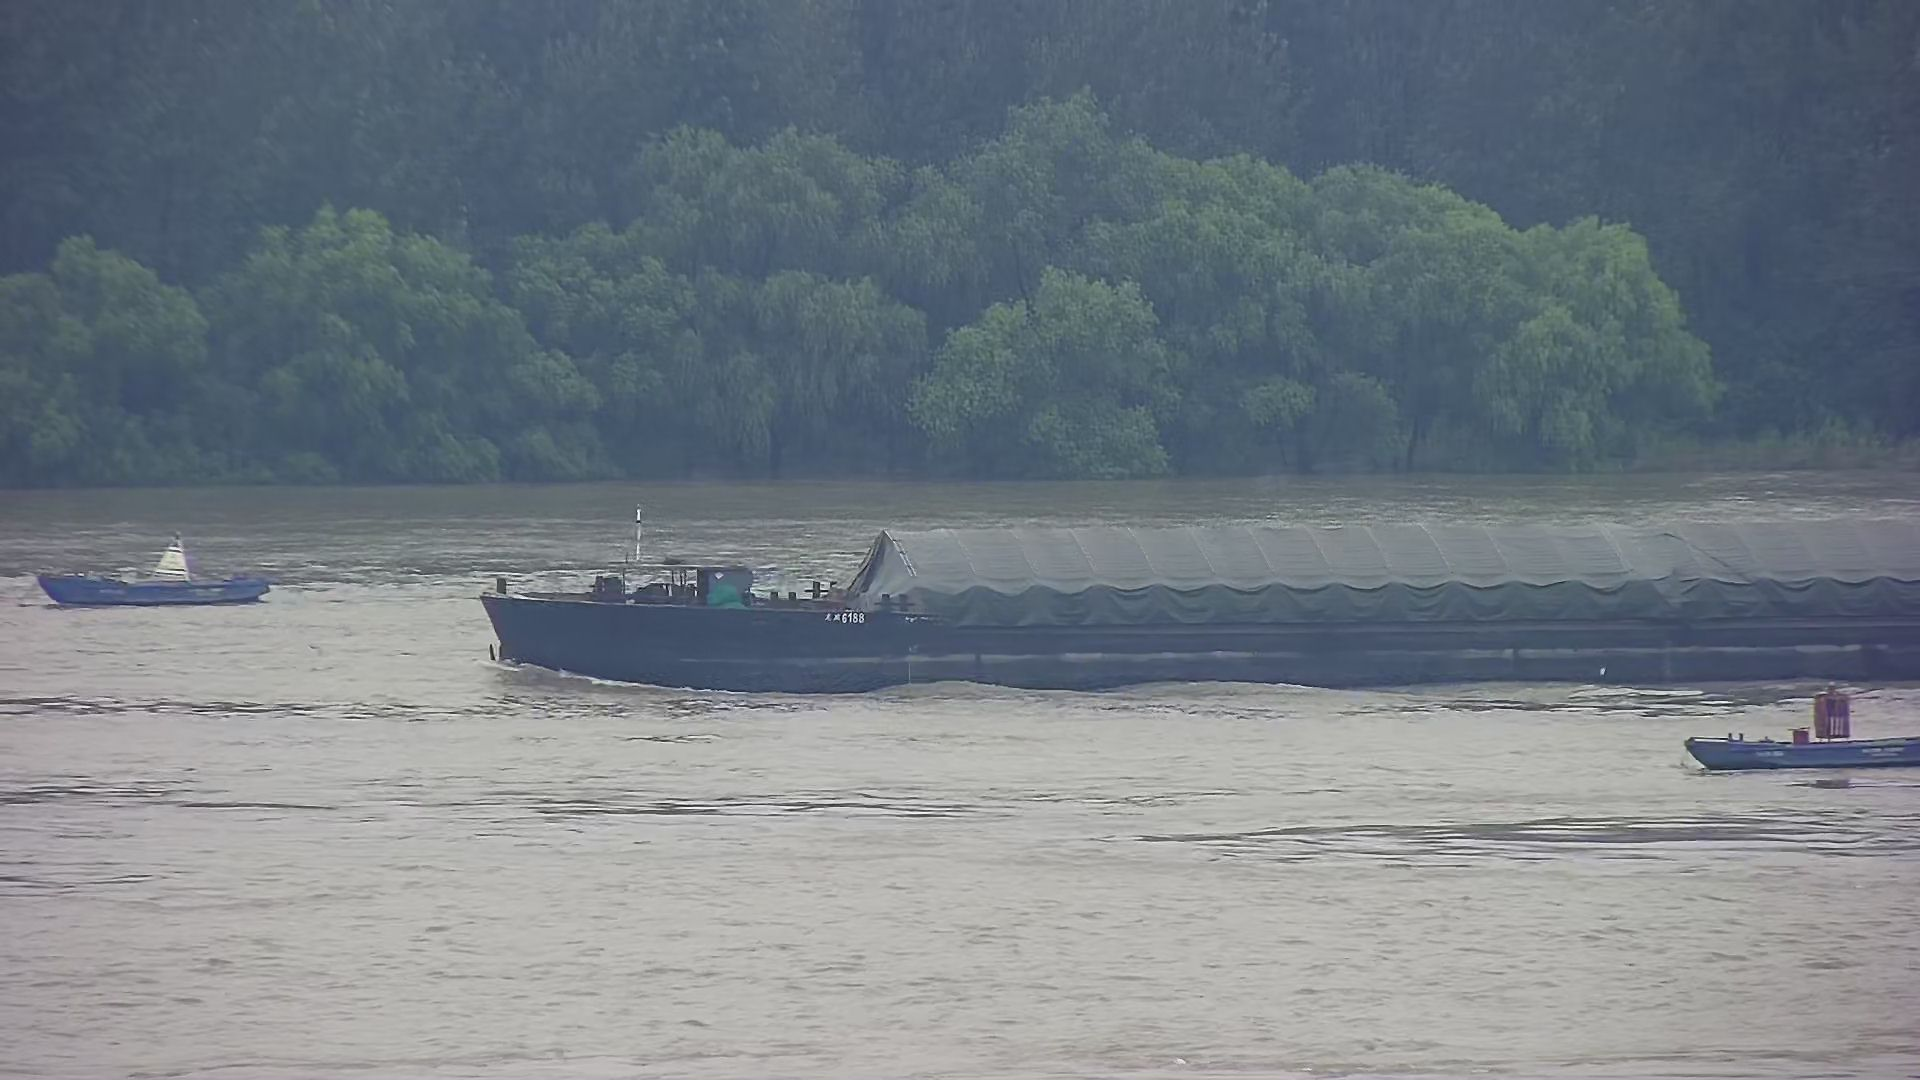boat: (30, 516, 287, 617), (1664, 682, 1919, 779)
ship: (469, 483, 1920, 692)
